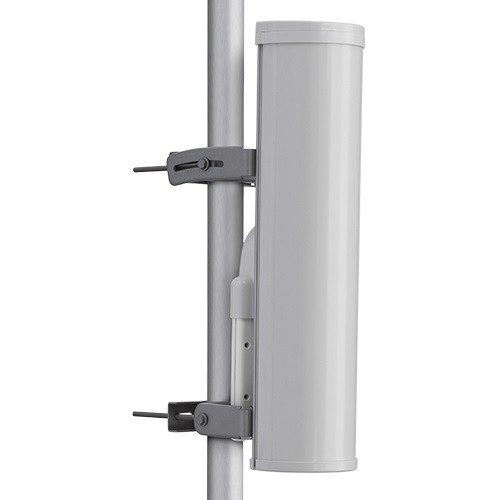sa: (200, 5, 378, 484)
